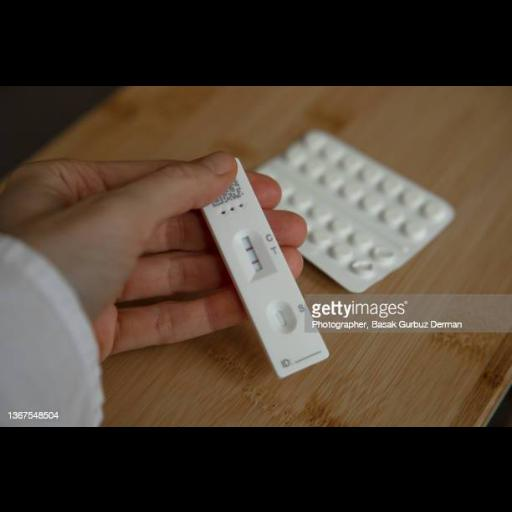Pos: (189, 157, 331, 377)
